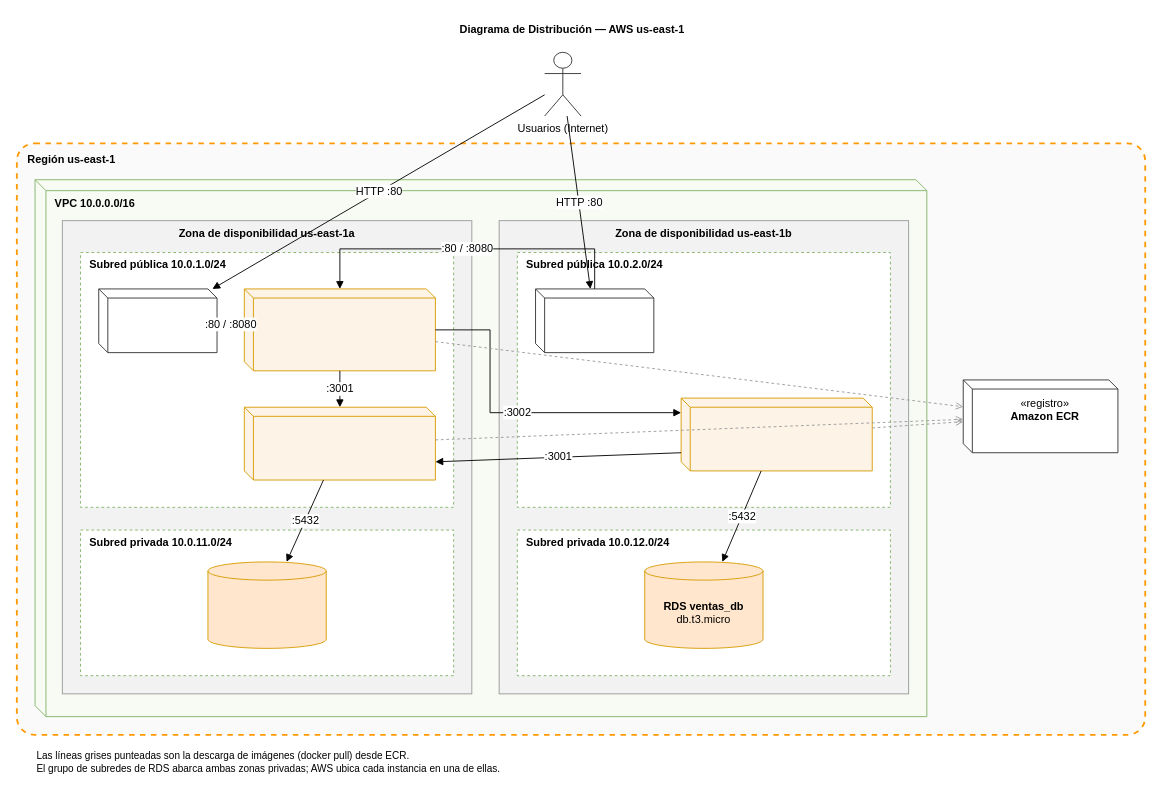
Image size: 1161x795. Some labels were removed from this diagram. The shapes that lost their labels are listed below. From the top down, each one's centre as x and y in pixels, then its label:
At pixel 157 320: "«device» ALB (nodo a)".
At pixel 339 329: "«device» EC2 frontend frontend + api-gateway IP elástica".
At pixel 594 320: "«device» ALB (nodo b)".
At pixel 339 443: "«device» EC2 libros IP elástica".
At pixel 776 434: "«device» EC2 ventas IP elástica".
At pixel 266 604: "RDS libros_db db.t3.micro".
